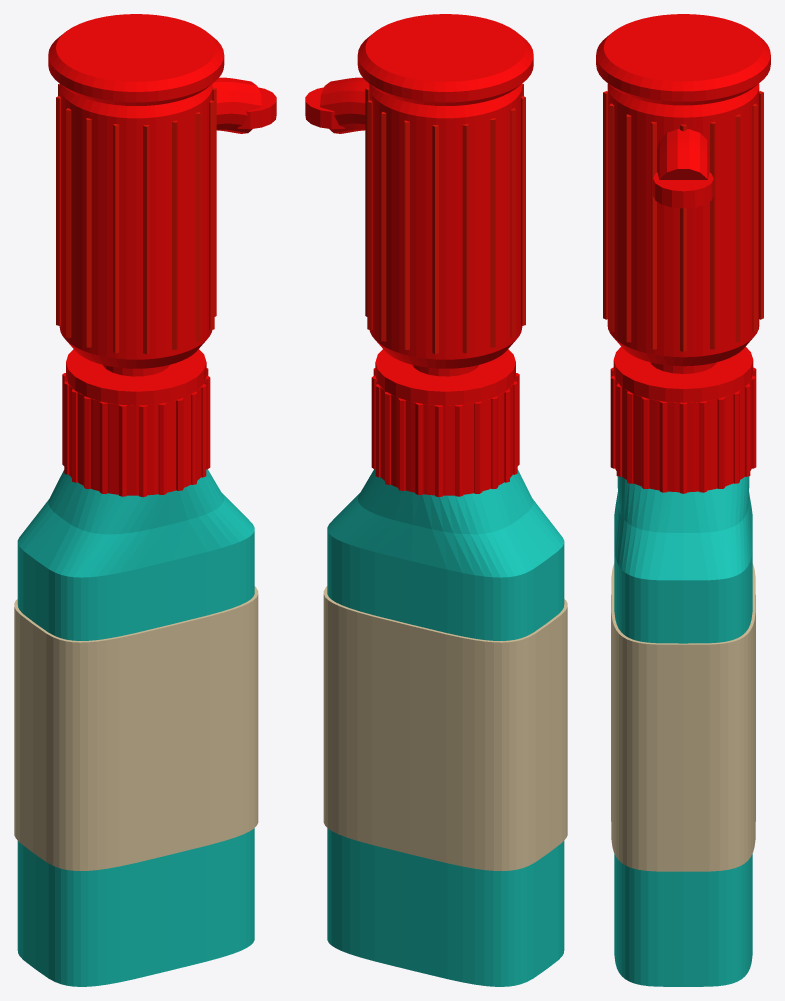
Rendered from Container_Pump__0001.glb.
The picture shows the model from 3 angles, left to right: view 1: azimuth 30°, elevation 25°; view 2: azimuth 150°, elevation 25°; view 3: azimuth 270°, elevation 25°; orthographic projection.
Parts seen in each view (by area): view 1: bottle::bottle_shell, bottle::label_band, foamer_head::foamer_chamber, foamer_head::actuator_cap, foamer_head::chamber_grip, collar::collar_knurl, collar::collar_shell, head_carrier::carrier_hub, foamer_head::foamer_spout; view 2: bottle::bottle_shell, bottle::label_band, foamer_head::foamer_chamber, foamer_head::actuator_cap, foamer_head::chamber_grip, collar::collar_knurl, collar::collar_shell, head_carrier::carrier_hub, foamer_head::foamer_spout; view 3: bottle::bottle_shell, bottle::label_band, foamer_head::foamer_chamber, foamer_head::actuator_cap, foamer_head::chamber_grip, collar::collar_knurl, collar::collar_shell, head_carrier::carrier_hub, foamer_head::foamer_spout, foamer_head::foamer_stem.
Part boxes in pixels (x1=…): bottle::bottle_shell: x1=17, y1=469, x2=254, y2=986; bottle::label_band: x1=14, y1=586, x2=258, y2=870; foamer_head::foamer_chamber: x1=59, y1=84, x2=212, y2=368; foamer_head::actuator_cap: x1=48, y1=14, x2=224, y2=105; foamer_head::chamber_grip: x1=56, y1=83, x2=216, y2=354; collar::collar_knurl: x1=62, y1=368, x2=210, y2=497; collar::collar_shell: x1=66, y1=377, x2=205, y2=495; head_carrier::carrier_hub: x1=66, y1=349, x2=206, y2=405; foamer_head::foamer_spout: x1=212, y1=77, x2=276, y2=133; bottle::bottle_shell: x1=327, y1=469, x2=564, y2=986; bottle::label_band: x1=323, y1=586, x2=567, y2=870; foamer_head::foamer_chamber: x1=369, y1=84, x2=522, y2=368; foamer_head::actuator_cap: x1=357, y1=14, x2=533, y2=105; foamer_head::chamber_grip: x1=365, y1=83, x2=525, y2=354; collar::collar_knurl: x1=371, y1=368, x2=519, y2=497; collar::collar_shell: x1=376, y1=377, x2=515, y2=495; head_carrier::carrier_hub: x1=375, y1=349, x2=515, y2=405; foamer_head::foamer_spout: x1=305, y1=77, x2=369, y2=133; bottle::bottle_shell: x1=614, y1=476, x2=752, y2=986; bottle::label_band: x1=611, y1=563, x2=755, y2=871; foamer_head::foamer_chamber: x1=607, y1=84, x2=759, y2=366; foamer_head::actuator_cap: x1=596, y1=14, x2=770, y2=105; foamer_head::chamber_grip: x1=603, y1=91, x2=763, y2=352; collar::collar_knurl: x1=610, y1=367, x2=756, y2=493; collar::collar_shell: x1=613, y1=374, x2=753, y2=492; head_carrier::carrier_hub: x1=613, y1=346, x2=753, y2=402; foamer_head::foamer_spout: x1=653, y1=129, x2=713, y2=208; foamer_head::foamer_stem: x1=650, y1=362, x2=716, y2=373.
Size of the model in its own units: 0.0725 by 0.2587 by 0.046.
